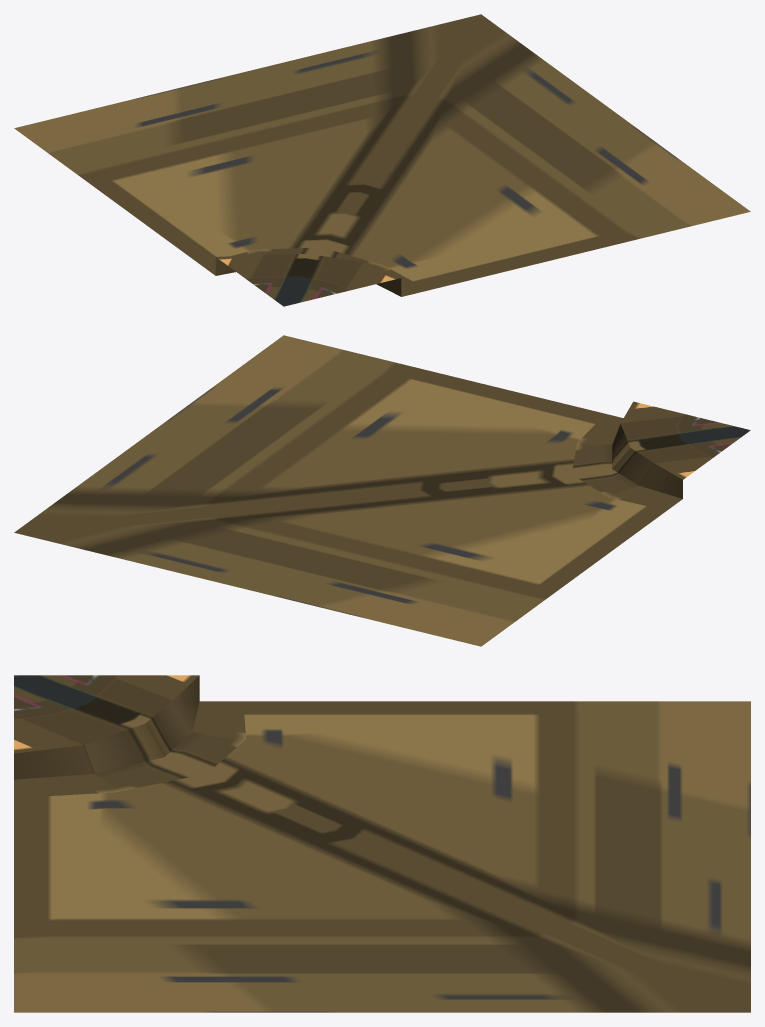
The model's file is SM_Env_Road_Asphalt_Corner_01.gltf.
3 renders of one model, top to bottom at view 1: azimuth 30°, elevation 25°; view 2: azimuth 150°, elevation 25°; view 3: azimuth 270°, elevation 25°, orthographic. The views are drawn at different scales.
Parts seen in each view (by area): view 1: SM_Env_Road_Asphalt_Corner_01; view 2: SM_Env_Road_Asphalt_Corner_01; view 3: SM_Env_Road_Asphalt_Corner_01.
Boxes of the visible parts, x1,y1,x2,y2 form: SM_Env_Road_Asphalt_Corner_01: (14, 14, 750, 306); SM_Env_Road_Asphalt_Corner_01: (14, 335, 750, 646); SM_Env_Road_Asphalt_Corner_01: (14, 675, 750, 1012).
Size of the model in its own units: 5 by 0.1948 by 5.
1 material, 1 textured.
